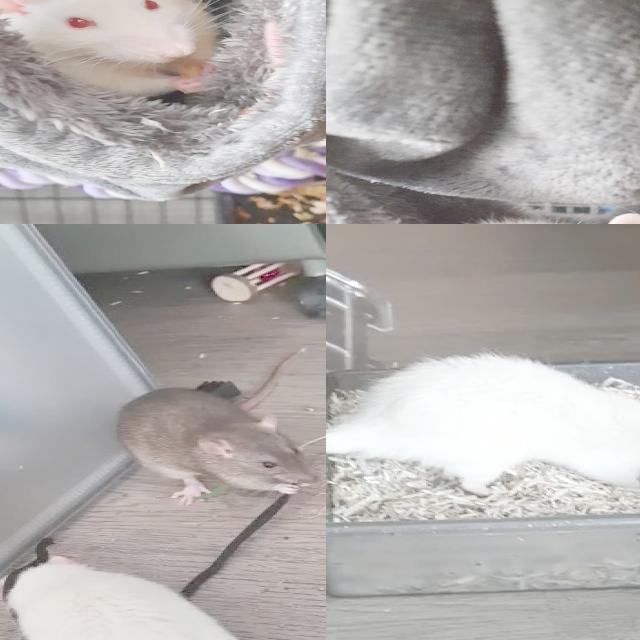rat: (342, 354, 640, 495), (110, 382, 326, 513), (0, 544, 263, 640), (0, 0, 235, 100)
